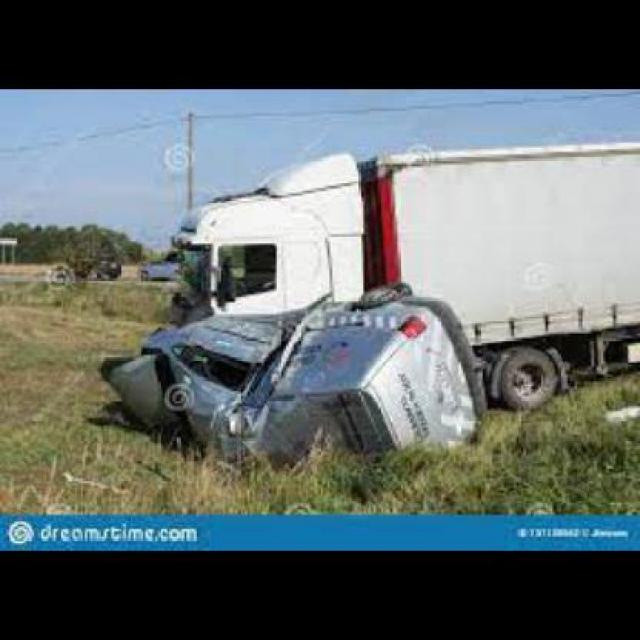accident: (103, 128, 639, 484)
